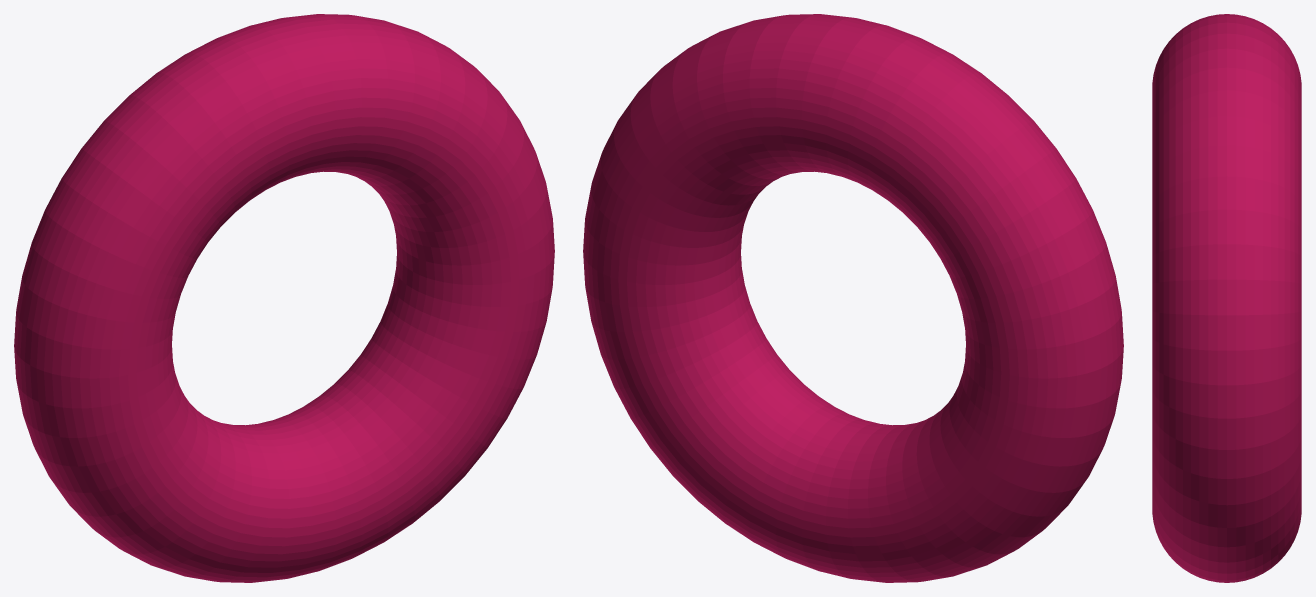
3 renders of one model, left to right at view 1: azimuth 30°, elevation 25°; view 2: azimuth 150°, elevation 25°; view 3: azimuth 270°, elevation 25°, orthographic. The views are drawn at different scales.
Parts seen in each view (by area): view 1: world; view 2: world; view 3: world.
Part boxes in pixels (x1=…): world: x1=14, y1=14, x2=554, y2=582; world: x1=583, y1=14, x2=1123, y2=582; world: x1=1152, y1=14, x2=1301, y2=582.
Size of the model in its own units: 38 by 37.93 by 9.98.
